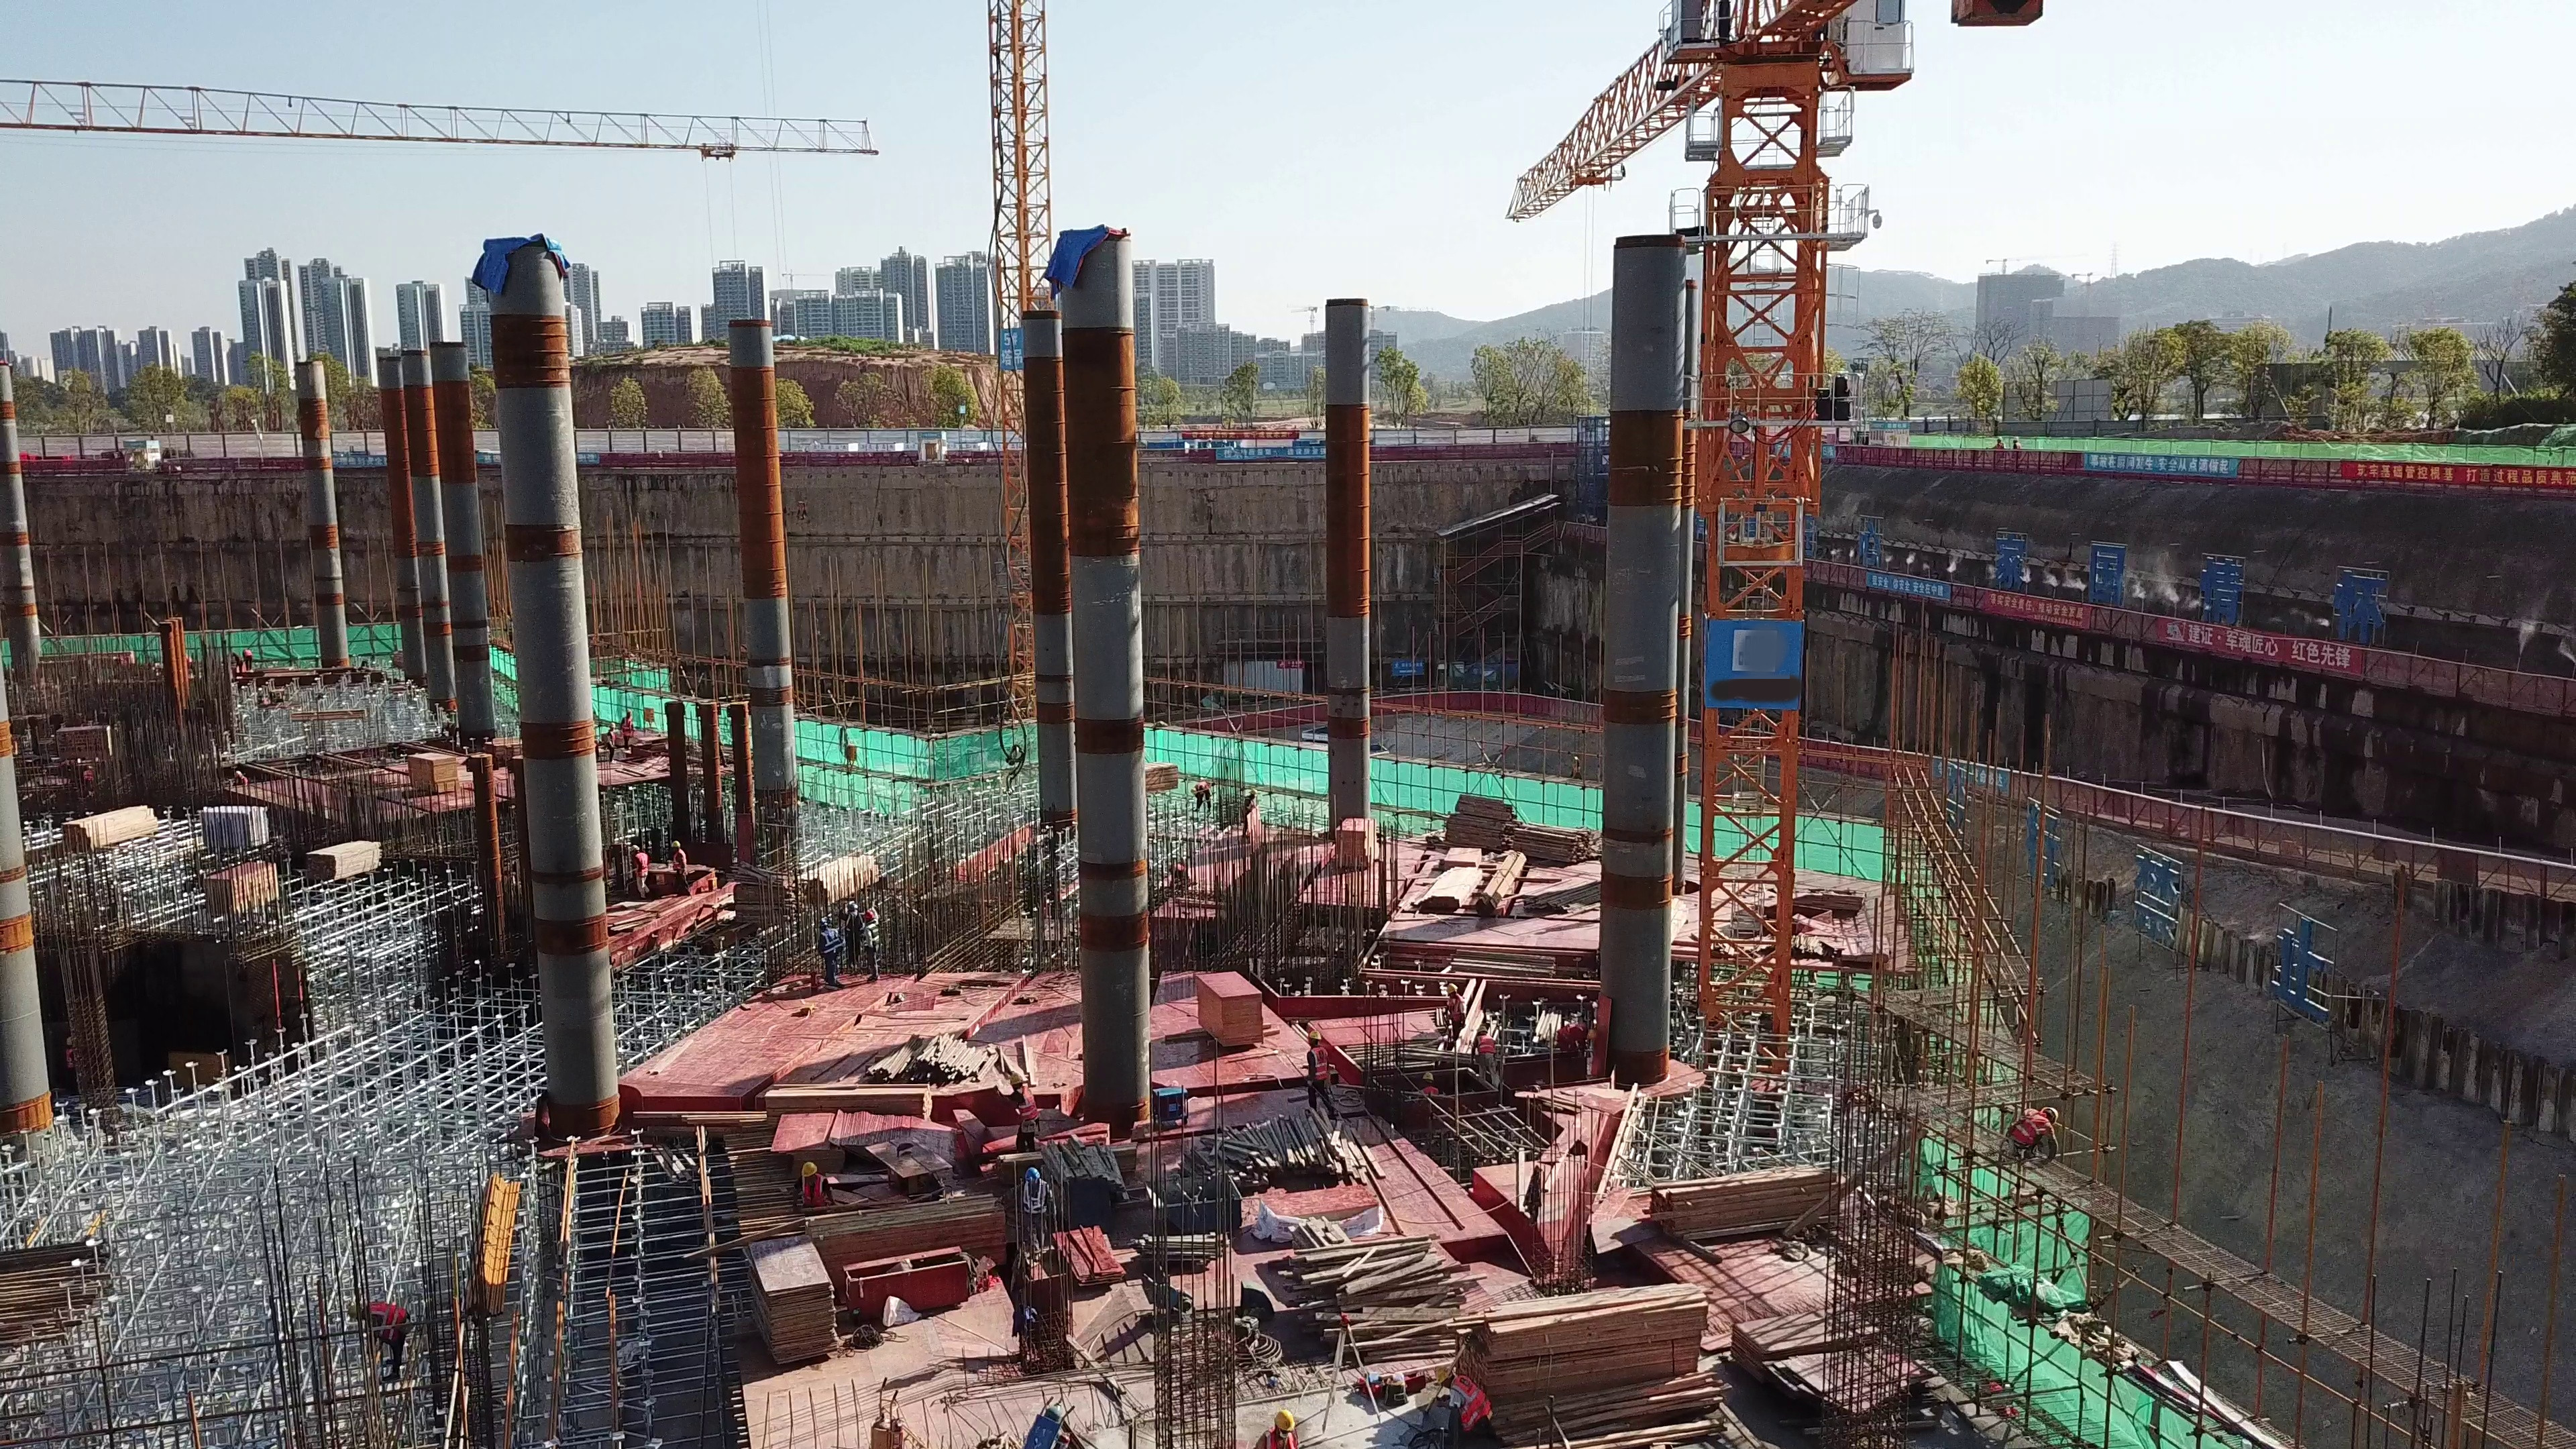board: (747, 1242, 849, 1362), (777, 1104, 985, 1156), (1189, 969, 1269, 1057), (1061, 1219, 1135, 1285), (407, 751, 476, 804), (208, 865, 282, 910), (1340, 812, 1379, 874)
cutter: (887, 1137, 957, 1203)
helmet: (1271, 1409, 1300, 1436), (344, 1304, 363, 1328), (2043, 1105, 2063, 1122), (1435, 1364, 1453, 1381), (800, 1160, 818, 1173), (1309, 1028, 1324, 1042), (816, 918, 830, 932), (1008, 1070, 1025, 1082), (861, 908, 877, 920), (1446, 982, 1459, 995), (847, 900, 859, 910), (1025, 1169, 1040, 1178), (1423, 1071, 1434, 1082), (1587, 1028, 1599, 1038), (1475, 1024, 1490, 1032), (232, 769, 243, 779), (672, 840, 682, 849), (629, 845, 639, 853), (608, 722, 617, 731), (1250, 788, 1257, 796), (624, 708, 633, 714), (1189, 787, 1196, 794)
hopper: (1145, 1169, 1252, 1237)
person: (1429, 1362, 1513, 1448), (347, 1299, 416, 1387), (1001, 1163, 1063, 1246), (2002, 1102, 2063, 1167), (1001, 1065, 1044, 1155), (1301, 1024, 1339, 1110), (786, 1157, 837, 1218), (1436, 982, 1469, 1051), (1471, 1022, 1507, 1084), (812, 920, 843, 990), (859, 911, 888, 983), (1551, 1019, 1599, 1059), (667, 839, 696, 903), (1259, 1409, 1305, 1448), (627, 843, 652, 900), (1241, 789, 1263, 840), (1410, 1069, 1446, 1100), (1186, 777, 1215, 812), (845, 898, 861, 963), (233, 648, 259, 684), (620, 709, 639, 751), (80, 763, 101, 796), (603, 720, 619, 764), (1168, 860, 1192, 884), (1567, 749, 1584, 781), (1987, 435, 2005, 456), (2011, 435, 2020, 455)
rebar: (3, 1228, 126, 1344)
slogan: (2167, 623, 2365, 673), (2349, 458, 2570, 491), (1986, 594, 2096, 635), (2088, 451, 2246, 480), (1862, 568, 1951, 602), (1186, 427, 1303, 444), (1222, 443, 1330, 462), (482, 451, 605, 464), (325, 451, 388, 470)
vest: (1446, 1377, 1501, 1426), (366, 1302, 408, 1338), (2010, 1112, 2049, 1144), (1014, 1087, 1040, 1120), (1024, 1182, 1050, 1214), (1307, 1047, 1330, 1077), (801, 1179, 825, 1206), (1556, 1020, 1585, 1043), (820, 931, 844, 958), (1450, 996, 1468, 1022), (867, 925, 883, 953), (1477, 1032, 1496, 1053), (636, 855, 649, 877), (847, 912, 859, 938), (672, 853, 686, 870), (82, 767, 95, 786), (606, 732, 617, 753), (621, 717, 634, 735), (241, 648, 255, 658), (1196, 782, 1208, 790)
wood: (1474, 1271, 1717, 1419), (1276, 1239, 1470, 1348), (1634, 1157, 1836, 1235), (1434, 852, 1599, 934), (1212, 1123, 1407, 1189), (1449, 785, 1592, 868), (756, 850, 869, 898), (310, 824, 387, 893), (1057, 1141, 1134, 1201), (1130, 1226, 1218, 1275), (68, 809, 159, 850)
